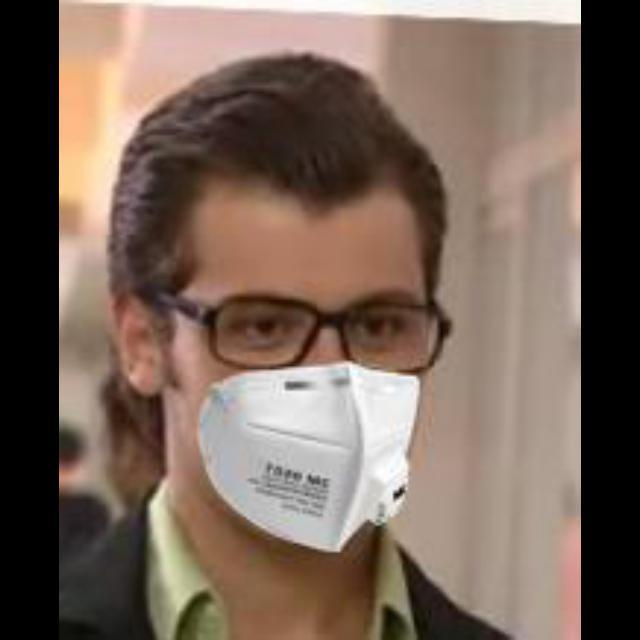suspicion: (87, 49, 489, 556)
